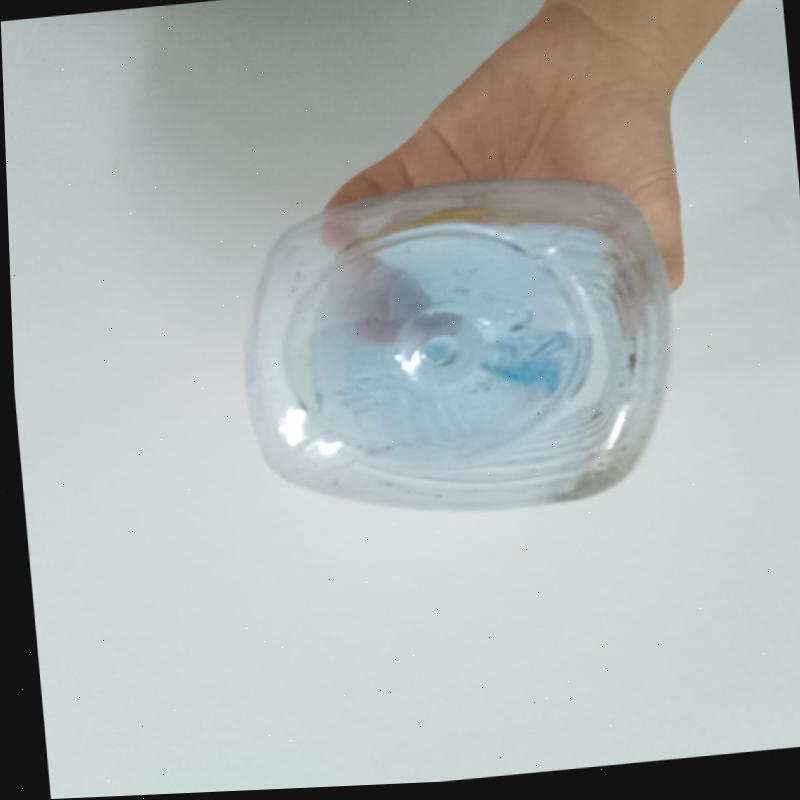botella: (219, 154, 686, 545)
